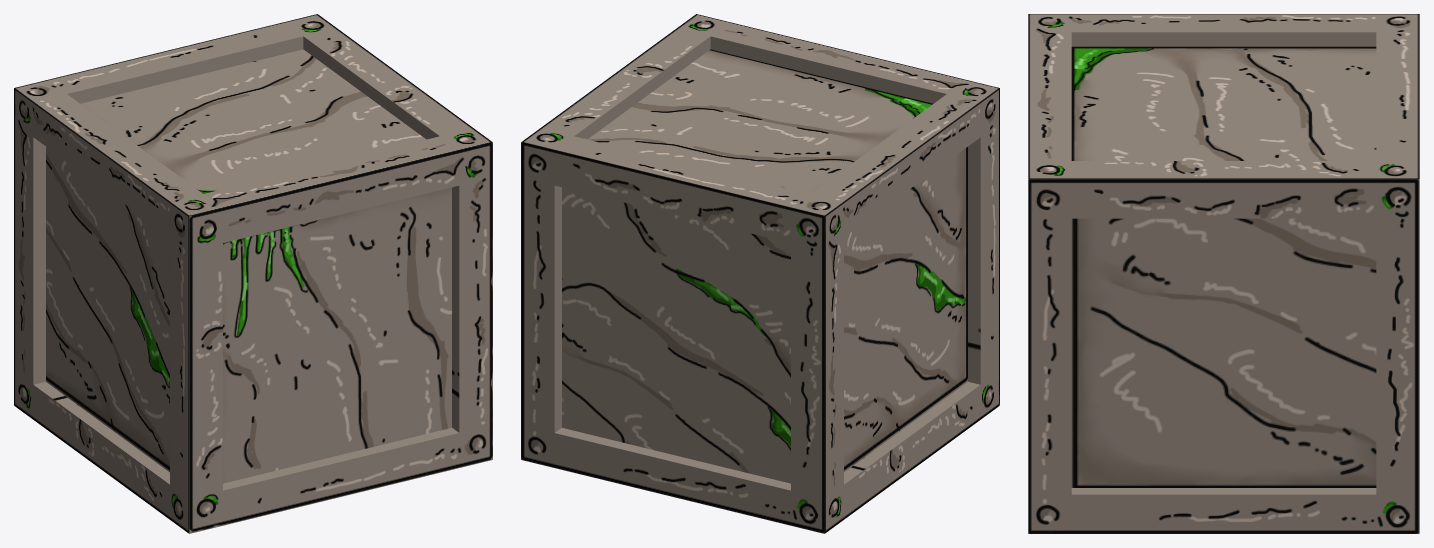
File: Crate.fbx
3 views of the same model, side by side, from view 1: azimuth 30°, elevation 25°; view 2: azimuth 150°, elevation 25°; view 3: azimuth 270°, elevation 25° (orthographic). The views are drawn at different scales.
Parts seen in each view (by area): view 1: Crate; view 2: Crate; view 3: Crate.
Boxes of the visible parts, x1,y1,x2,y2 form: Crate: (14, 14, 492, 533); Crate: (521, 14, 999, 533); Crate: (1028, 14, 1419, 533).
Size of the model in its own units: 57.62 by 57.62 by 57.62.
